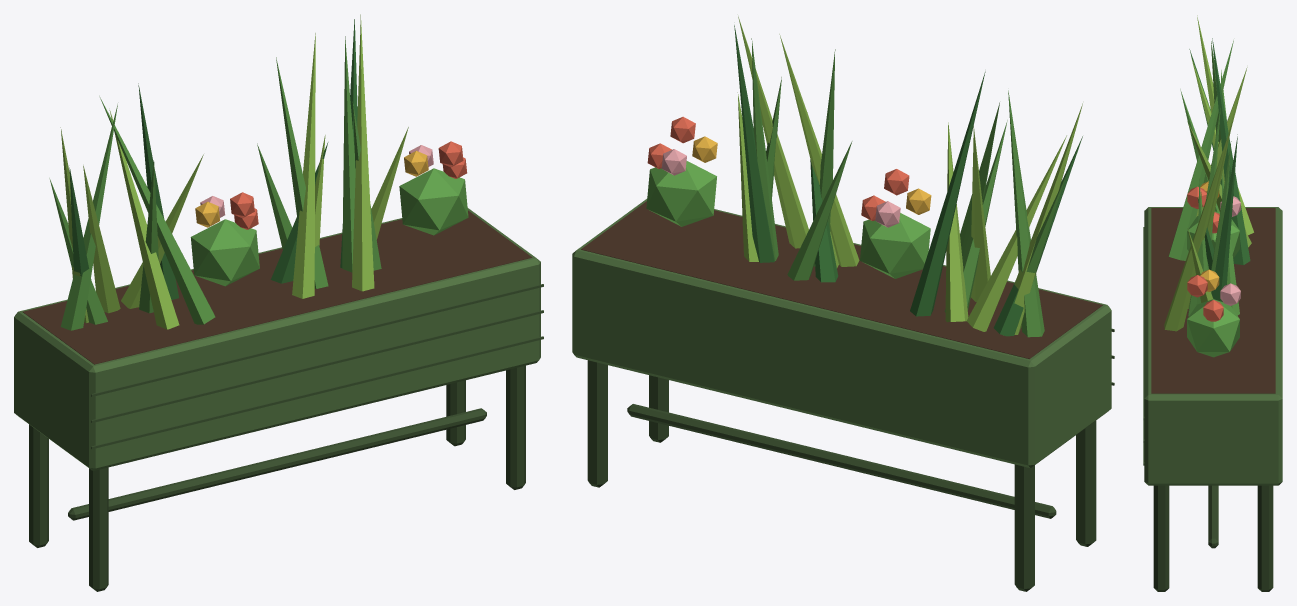
The model's file is planter_box.glb.
3 views of the same model, side by side, from view 1: azimuth 30°, elevation 25°; view 2: azimuth 150°, elevation 25°; view 3: azimuth 270°, elevation 25° (orthographic). The views are drawn at different scales.
Visible parts, largest first — view 1: planter_box_Body; view 2: planter_box_Body; view 3: planter_box_Body.
Part boxes in pixels (left/top/right/bottom): planter_box_Body: left=14, top=14, right=543, bottom=591; planter_box_Body: left=572, top=16, right=1114, bottom=591; planter_box_Body: left=1143, top=15, right=1282, bottom=591.
Bounding box in the file's own units: 1.3 × 1.3 × 0.4.
